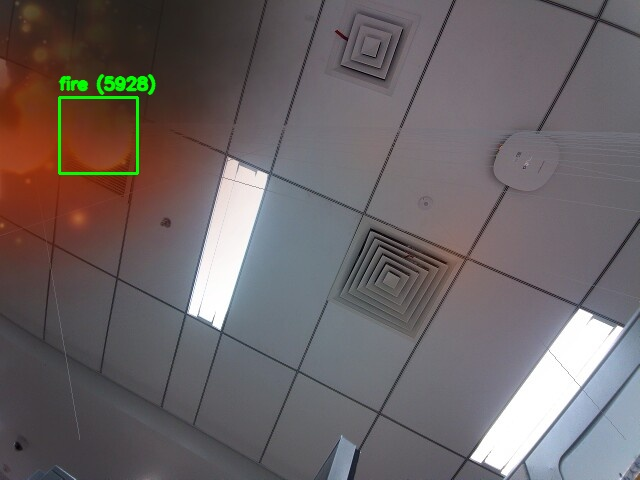fire: (59, 97, 137, 173)
